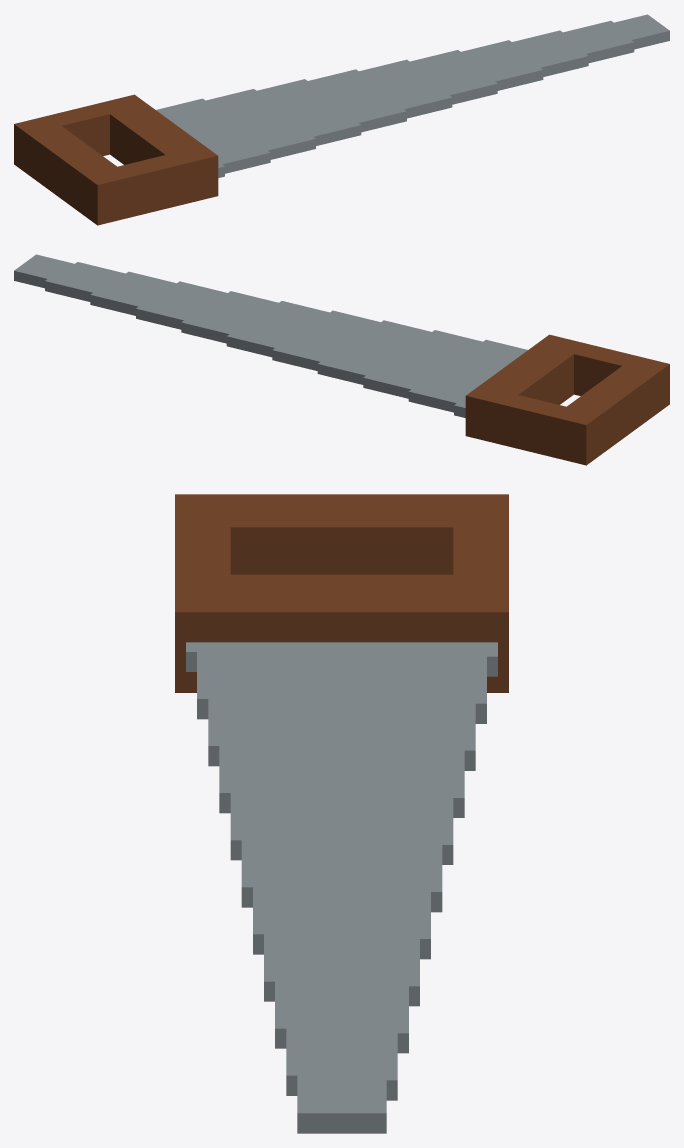
The model's file is hand_saw.glb.
The picture shows the model from 3 angles, top to bottom: view 1: azimuth 30°, elevation 25°; view 2: azimuth 150°, elevation 25°; view 3: azimuth 270°, elevation 25°; orthographic projection. The views are drawn at different scales.
Visible parts, largest first — view 1: hand_saw:compound; view 2: hand_saw:compound; view 3: hand_saw:compound.
Boxes of the visible parts, x1,y1,x2,y2 form: hand_saw:compound: (14, 14, 669, 225); hand_saw:compound: (14, 254, 669, 465); hand_saw:compound: (175, 494, 508, 1133).
Bounding box in the file's own units: 0.5 × 0.032 × 0.12.
